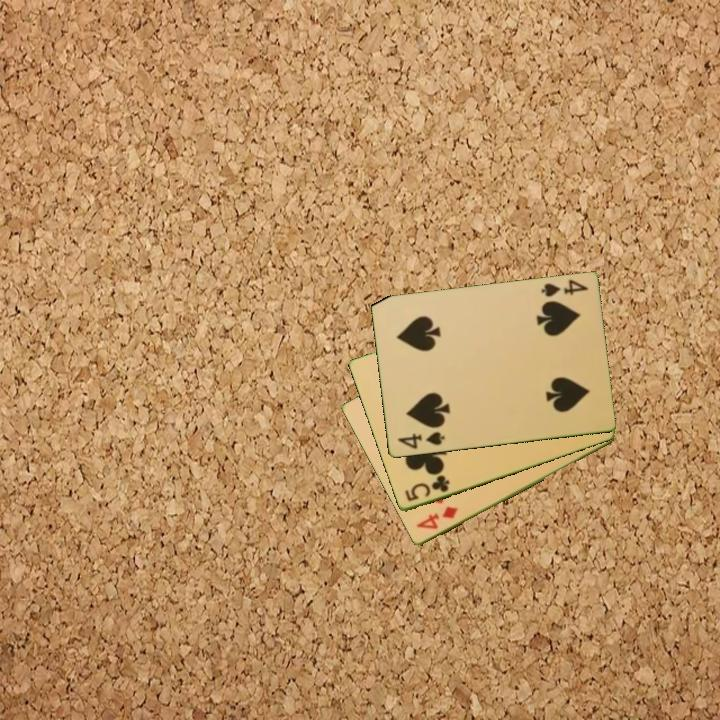4d: (413, 503, 462, 533)
4s: (537, 276, 590, 300), (394, 429, 447, 452)
5c: (401, 472, 453, 505)
